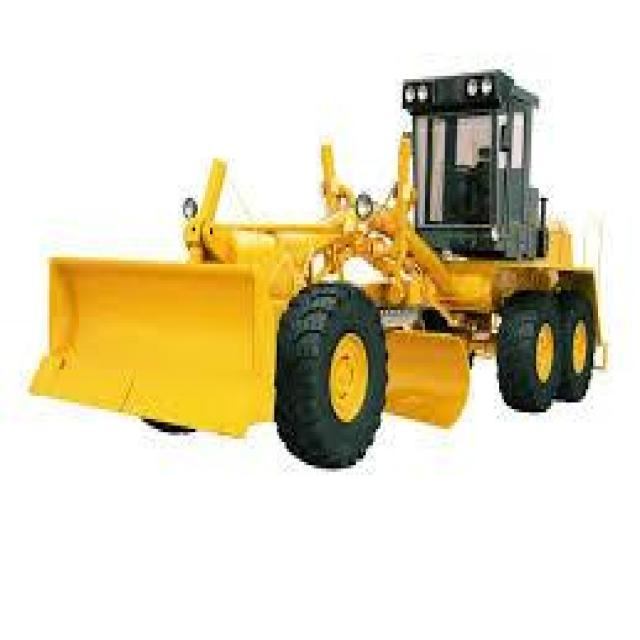buldozerpayloadergrader: (22, 53, 623, 465)
